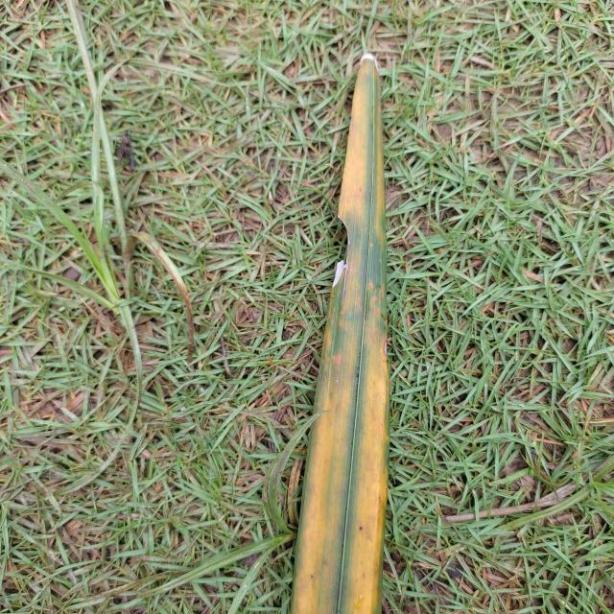Megnesium: (289, 48, 395, 614)
